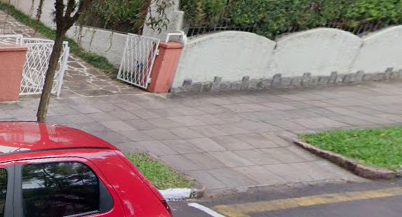vag67: (195, 153, 365, 212)
